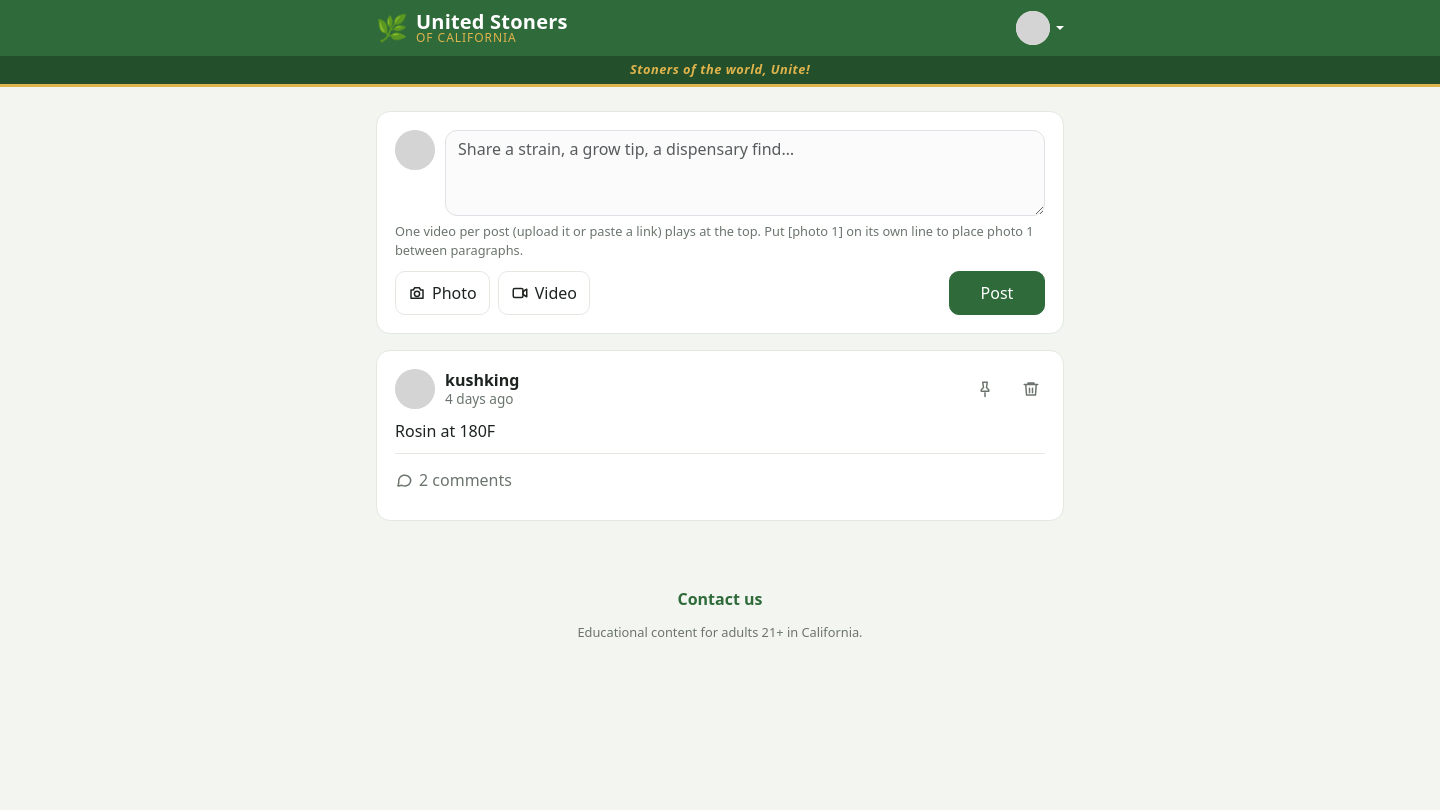
new post emails › publishing a post emails members and says how many got it
Type "Harvest day" into the text box with placeholder "Share a strain, a grow tip, a dispensary find…" at x=745, y=173, box [445,130,1045,216]
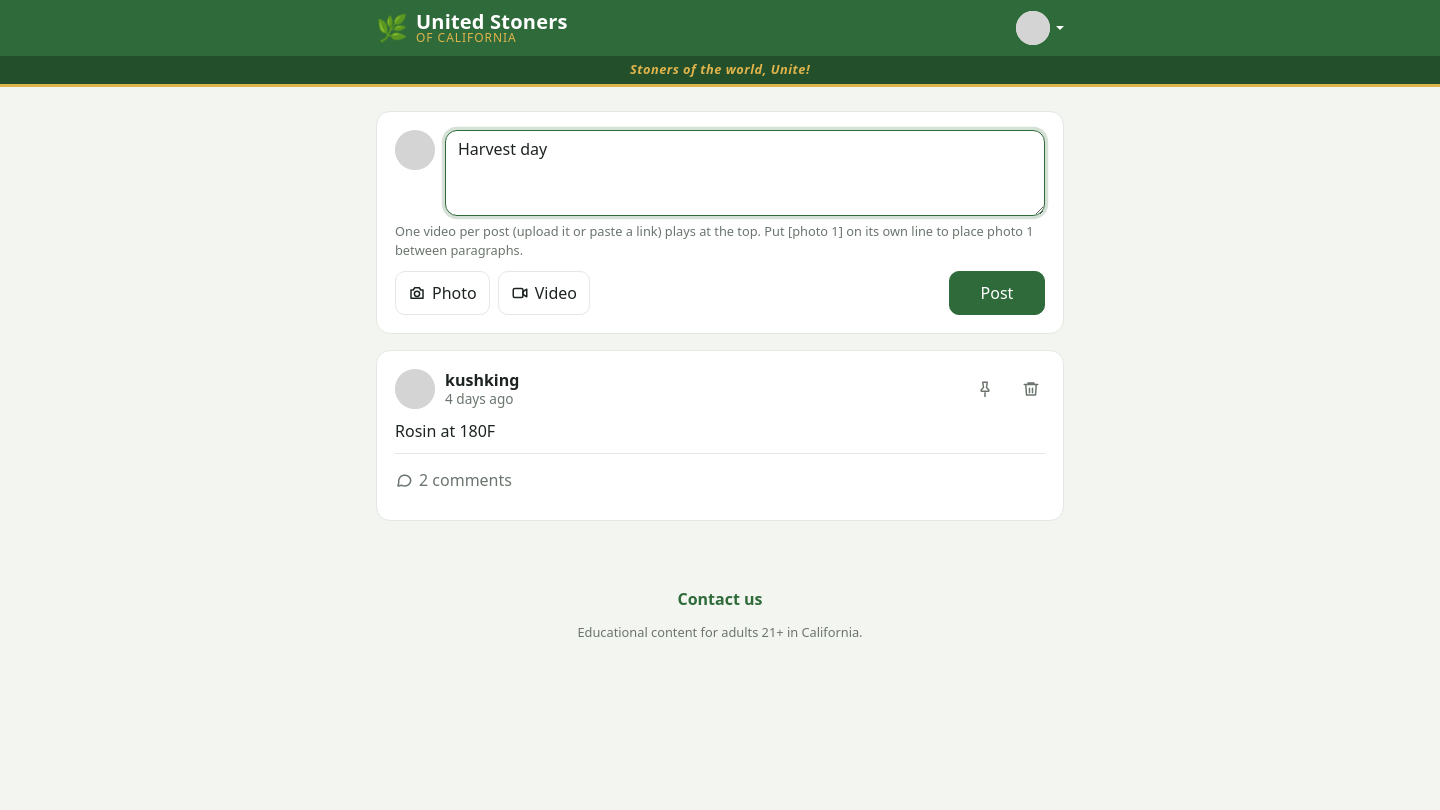
Click the button "Post" at x=997, y=293, box [949,271,1045,315]
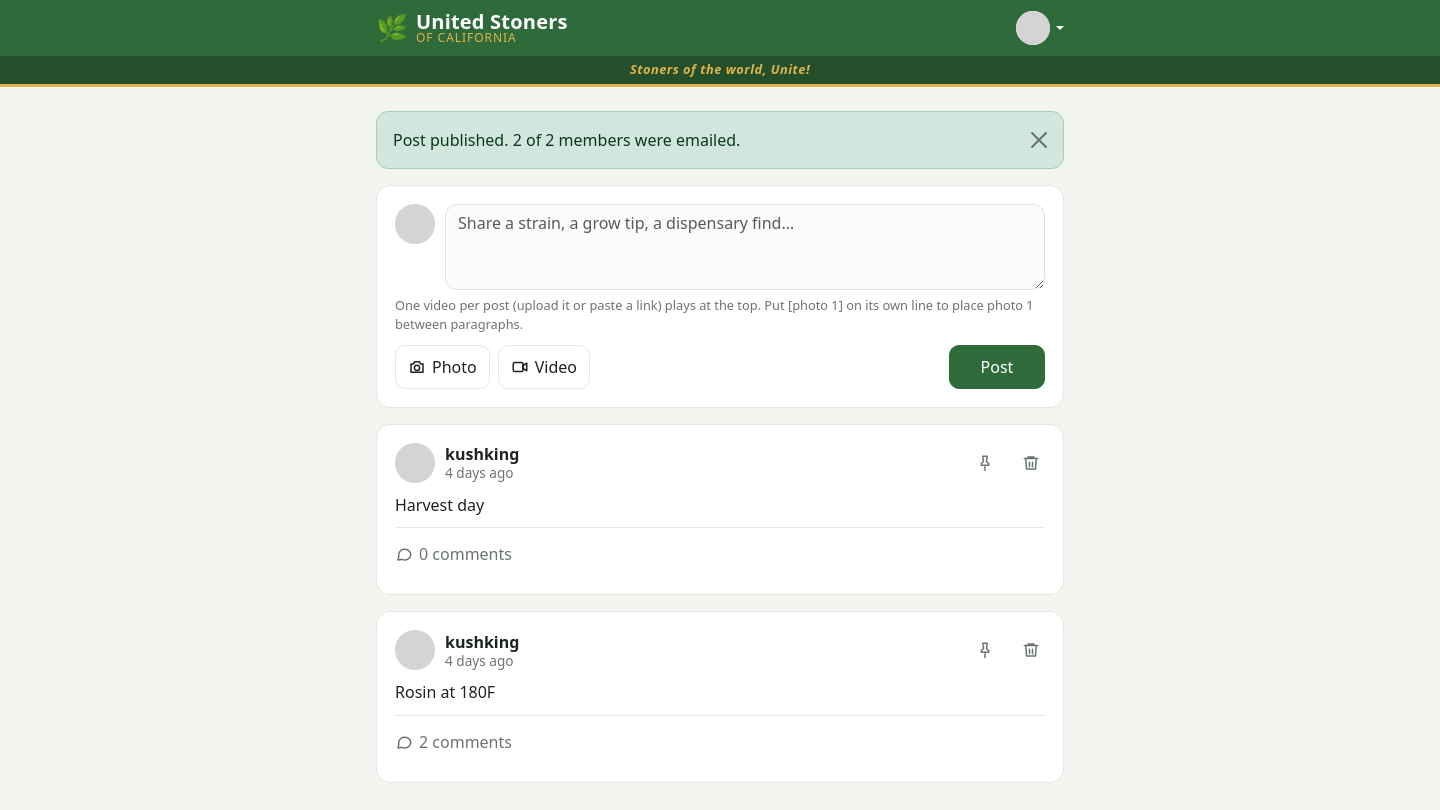
Check: the text "Post published. 2 of 2 members were emailed." is shown, box [376,111,1064,169]
